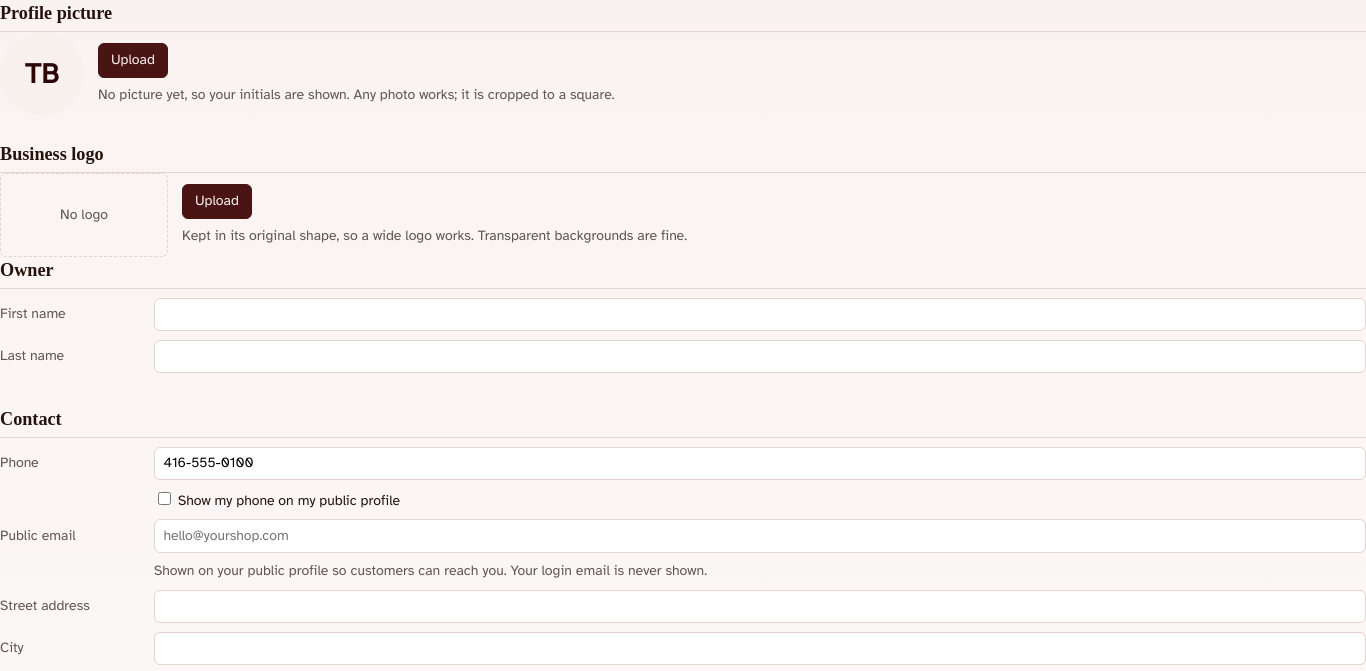
Test: ProfileTab contact details › saves the public email and the choice to show the phone
The width and height of the screenshot is (1366, 671).
Click the checkbox labelled "Show my phone on my public profile" at (164, 498), box [158,492,171,504]
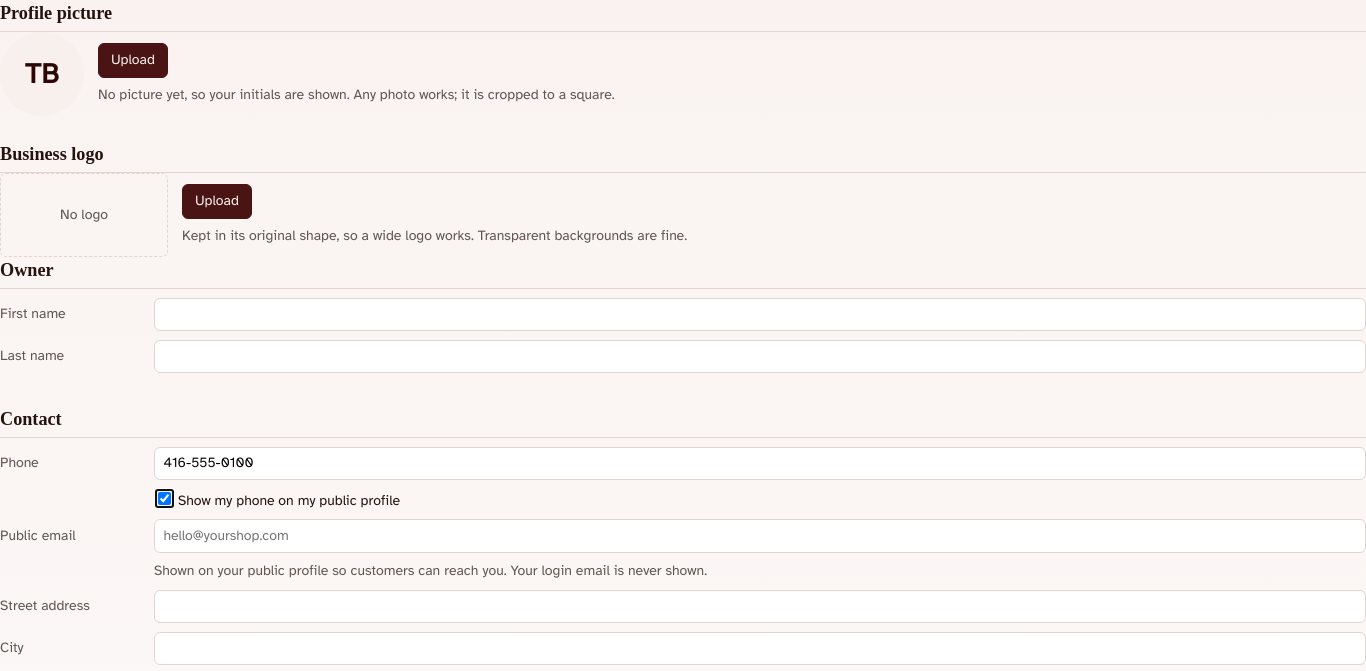
Type "  hello@rings.example " into the field named "Public email" at (760, 536), box [154,519,1365,553]
(page scrolled)
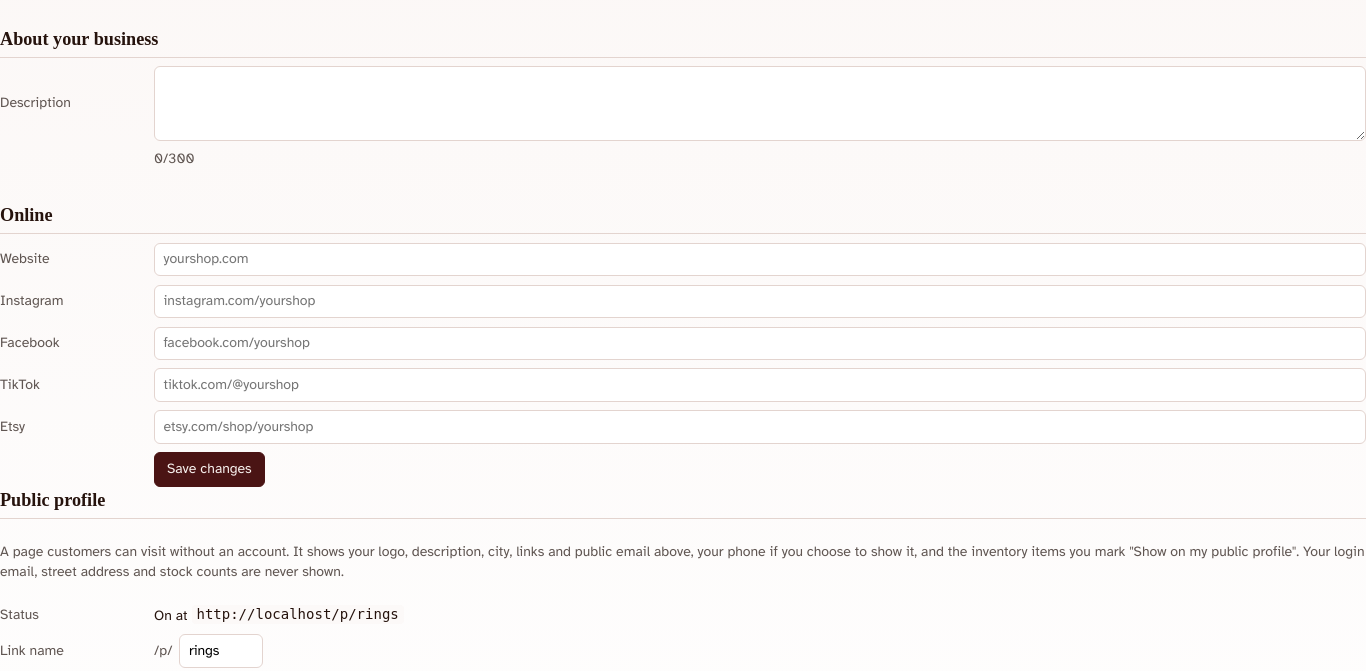
Click the button "Save changes" at (209, 470), box [154,452,265,487]
(page scrolled)
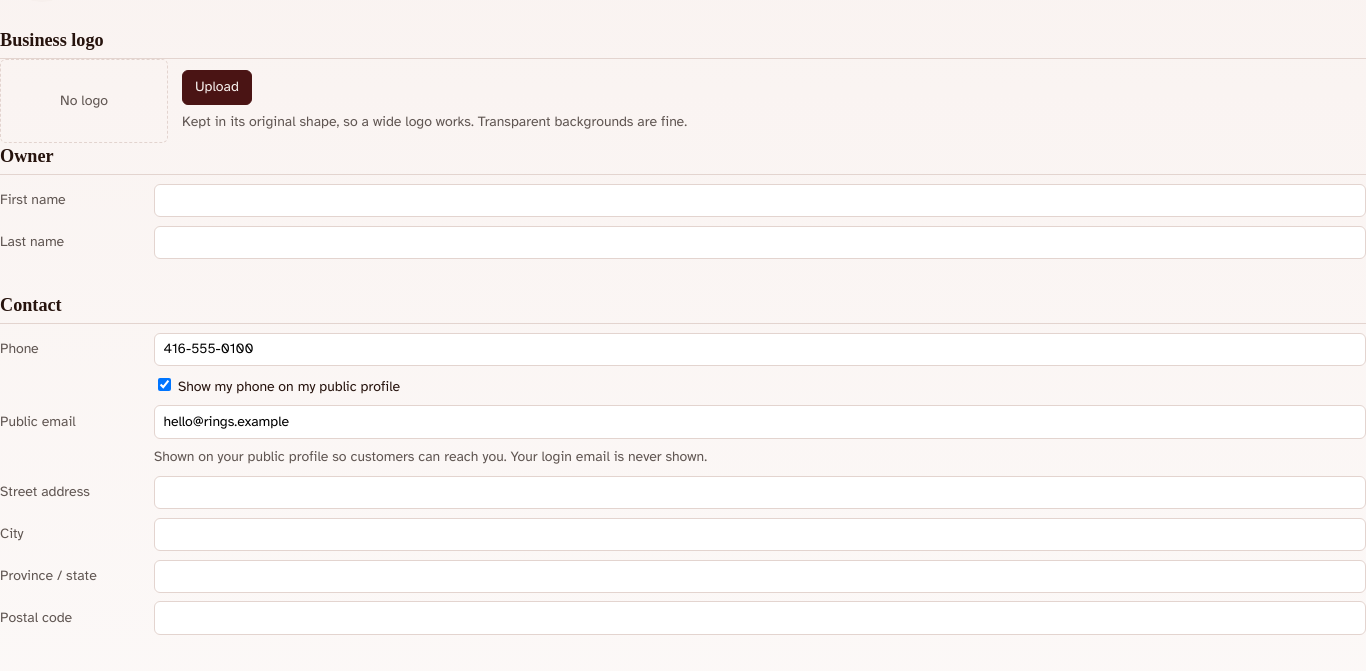
Check: the checkbox labelled "Show my phone on my public profile" is checked, box [158,378,171,390]
